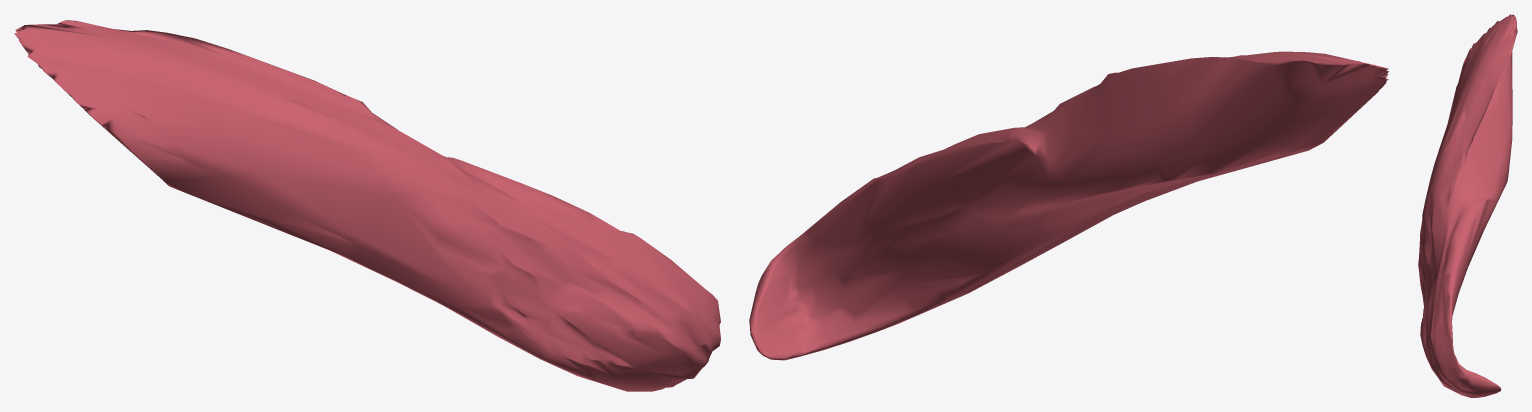
The picture shows the model from 3 angles, left to right: view 1: azimuth 30°, elevation 25°; view 2: azimuth 150°, elevation 25°; view 3: azimuth 270°, elevation 25°; orthographic projection. The views are drawn at different scales.
Visible parts, largest first — view 1: 左侧冈上肌; view 2: 左侧冈上肌; view 3: 左侧冈上肌.
Boxes of the visible parts, x1,y1,x2,y2 form: 左侧冈上肌: [14, 20, 720, 391]; 左侧冈上肌: [749, 51, 1388, 360]; 左侧冈上肌: [1418, 14, 1517, 397].
Bounding box in the file's own units: 0.1843 × 0.1249 × 0.0483.
